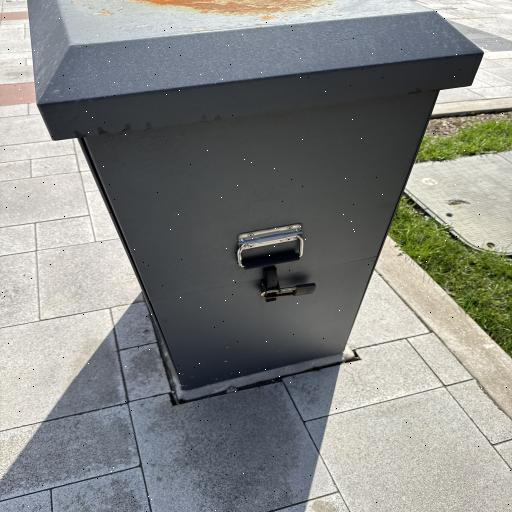Electrical Box: (25, 1, 485, 388)
